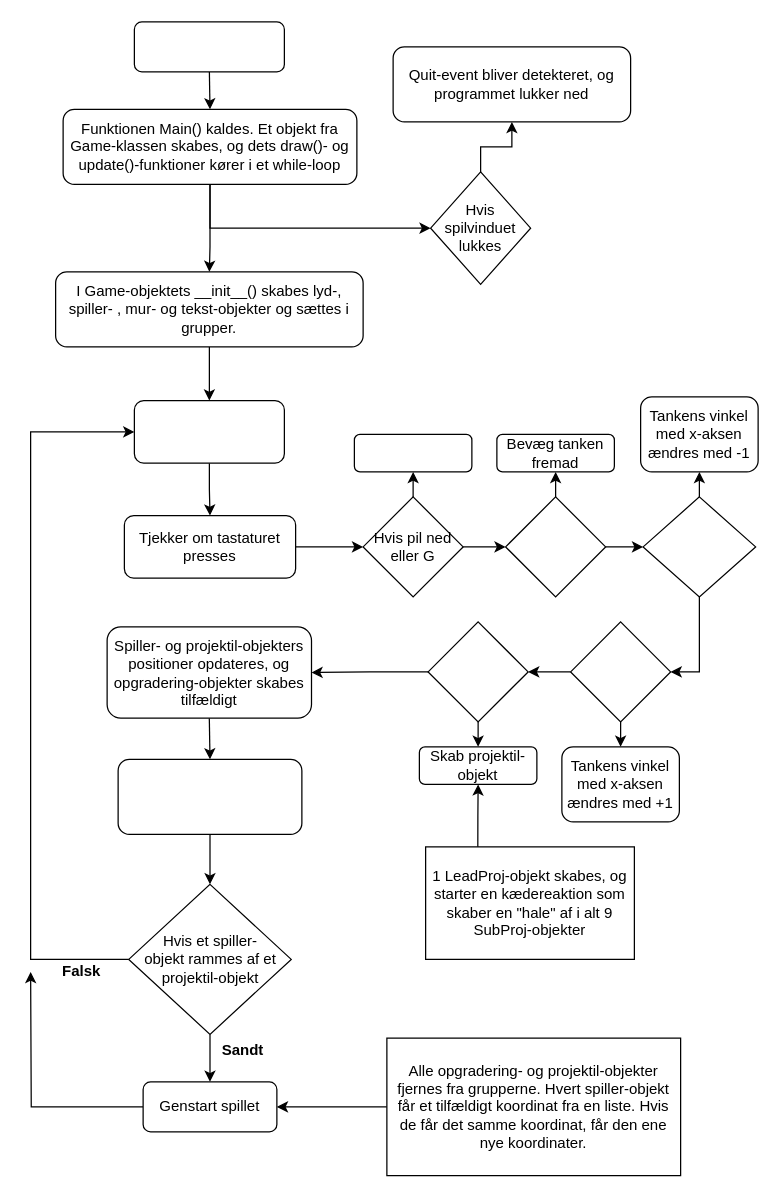
This 780x1198 diagram has some shape labels left out. The centre of each missing label's shape, as x and y in pixels:
Alle objekter tegnes på spilvinduet: the point at 208,431
Bevæg tanken baglæns: the point at 412,452
Hvis M eller Q: the point at 477,671
Hvis pil højre eller H: the point at 699,546
Hvis pil op eller T: the point at 555,546
Hvis pil venstre eller F: the point at 620,671
Programmet starter: the point at 208,46
Tjekker kollision mellem spiller-, mur- og opgradering-objekter: the point at 209,796
